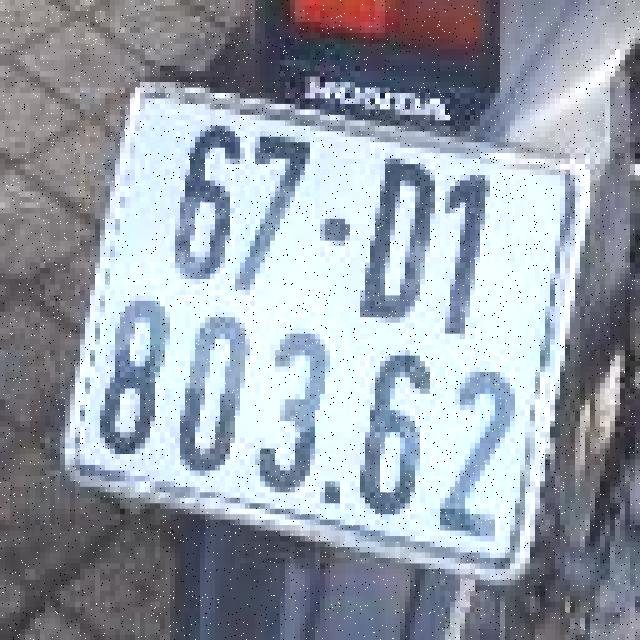0: (165, 305, 269, 485)
1: (424, 155, 519, 357)
2: (422, 359, 534, 560)
3: (239, 315, 350, 509)
6: (337, 343, 455, 529), (162, 113, 254, 294)
7: (225, 120, 330, 306)
8: (80, 288, 197, 472)
D: (349, 151, 449, 328)
